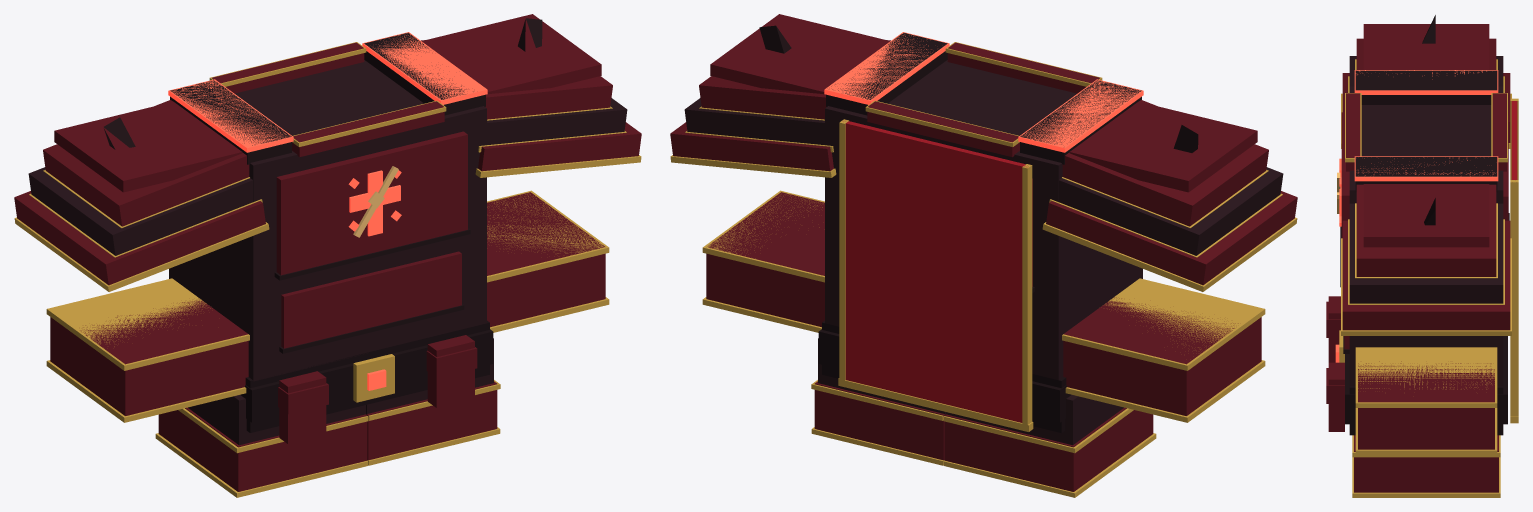
The picture shows the model from 3 angles, left to right: view 1: azimuth 30°, elevation 25°; view 2: azimuth 150°, elevation 25°; view 3: azimuth 270°, elevation 25°; orthographic projection. The views are drawn at different scales.
Parts seen in each view (by area): view 1: crimson-vanguard-hauberk; view 2: crimson-vanguard-hauberk; view 3: crimson-vanguard-hauberk.
Part boxes in pixels (x1=…): crimson-vanguard-hauberk: x1=14, y1=14, x2=641, y2=497; crimson-vanguard-hauberk: x1=670, y1=14, x2=1297, y2=497; crimson-vanguard-hauberk: x1=1326, y1=15, x2=1518, y2=497.
Size of the model in its own units: 1.26 by 0.82 by 0.429.
